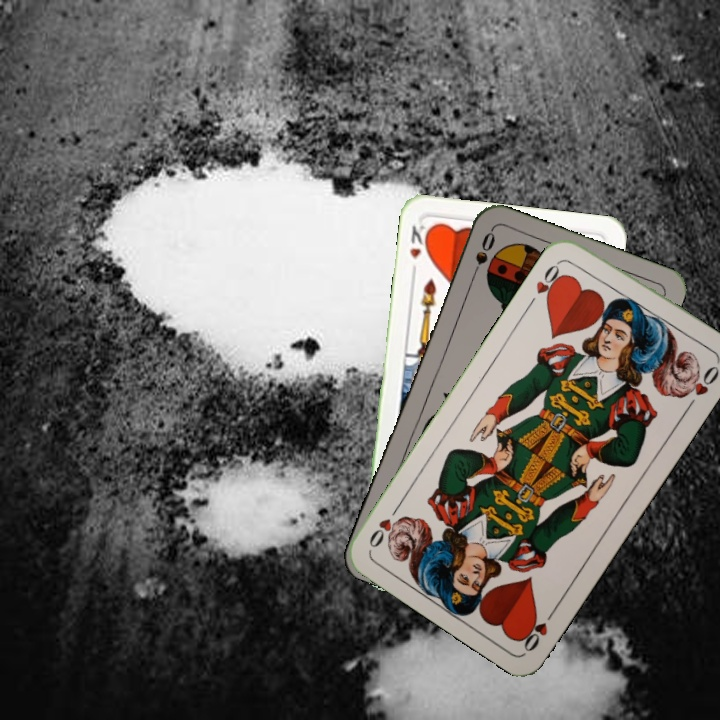HK: (405, 220, 432, 278)
HO: (516, 602, 560, 654), (525, 256, 568, 308)
SO: (466, 227, 498, 284)
